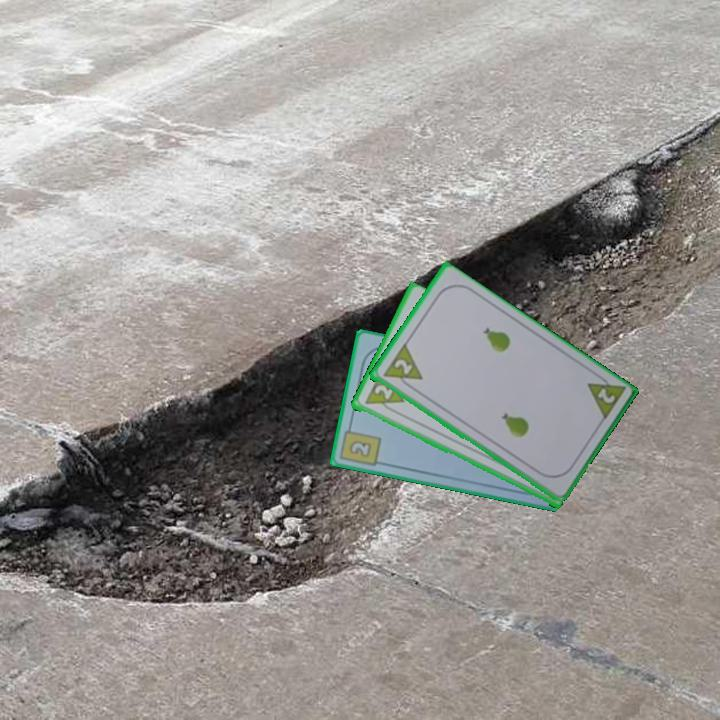2b: (337, 419, 384, 470)
2p: (379, 341, 425, 394), (583, 369, 627, 424), (370, 381, 396, 403)
